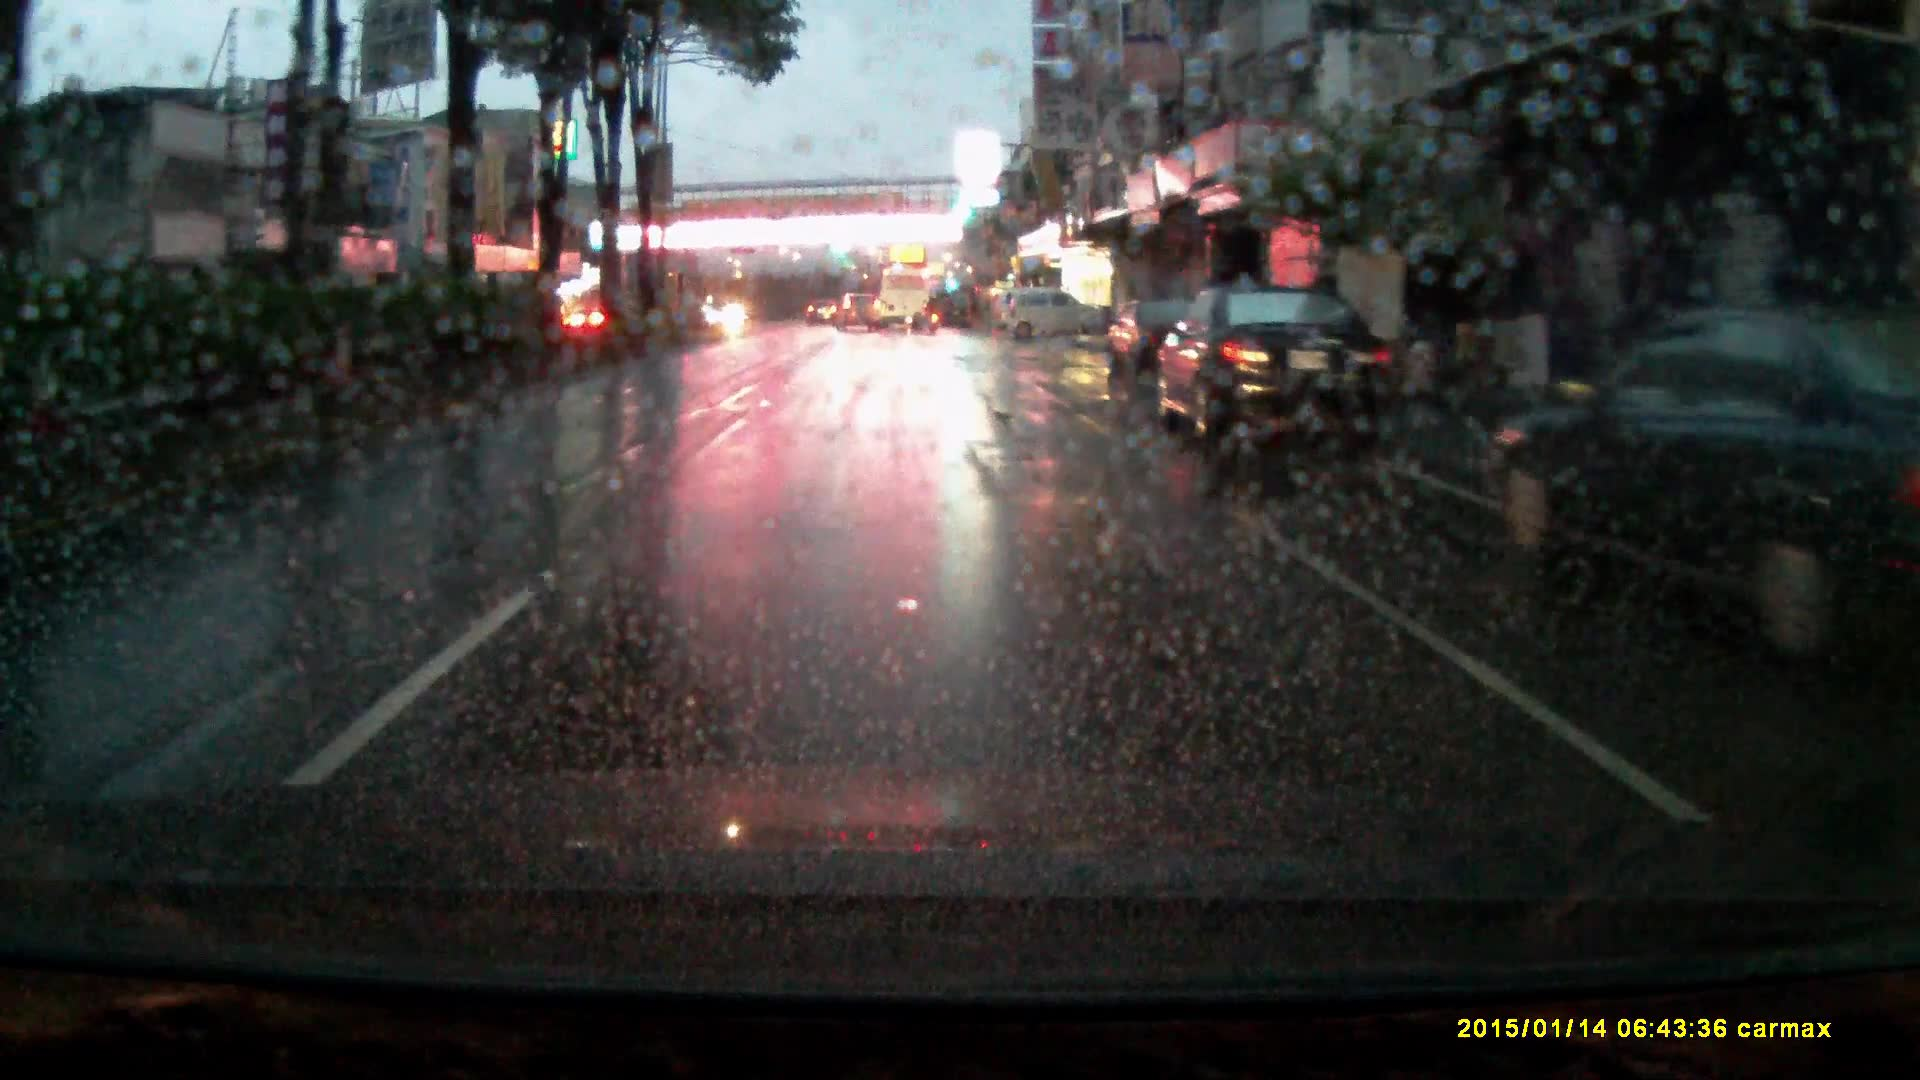vehicle: (1473, 307, 1920, 651), (1155, 284, 1390, 458), (1102, 299, 1205, 382), (1004, 289, 1102, 348), (866, 269, 931, 335), (835, 293, 884, 335), (806, 297, 840, 327)
